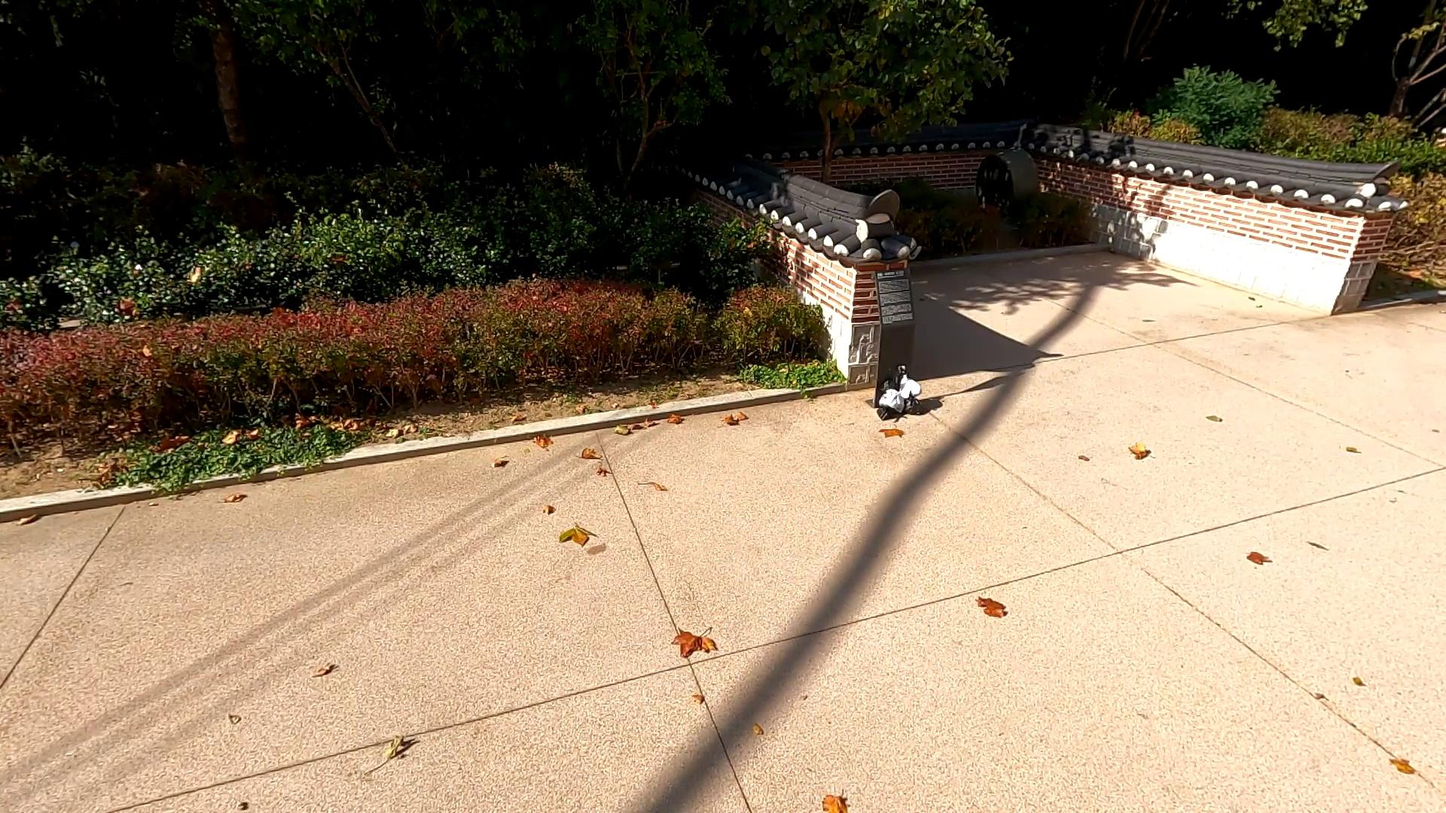trash: (878, 374, 900, 414), (878, 387, 905, 414), (899, 372, 920, 399), (876, 403, 903, 422), (901, 391, 922, 415)
